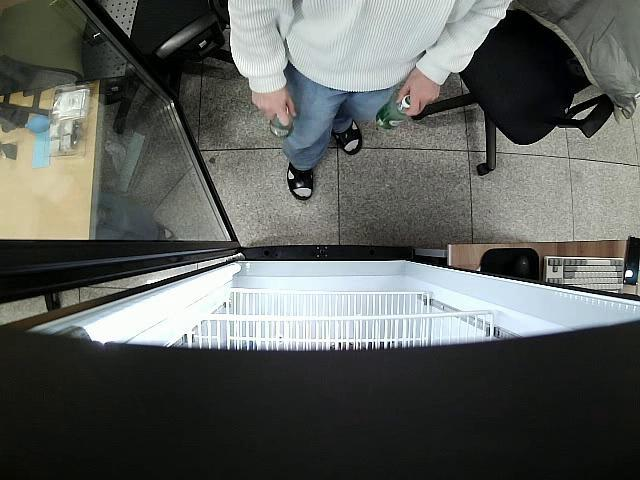18_trevi: (374, 95, 410, 131), (270, 110, 293, 140)
